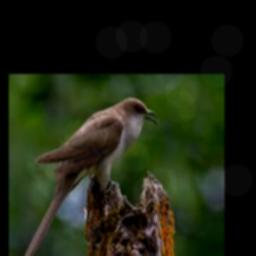Cuckoo: (20, 98, 159, 256)
